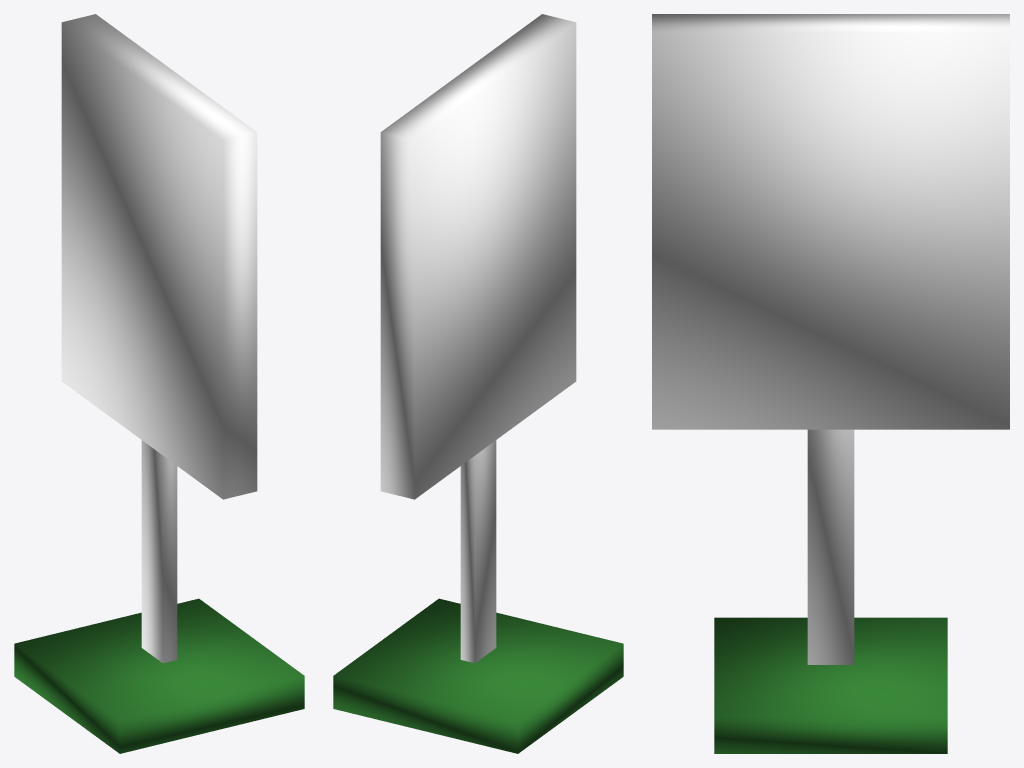
File: sign_blank.obj
3 renders of one model, left to right at view 1: azimuth 30°, elevation 25°; view 2: azimuth 150°, elevation 25°; view 3: azimuth 270°, elevation 25°, orthographic. The views are drawn at different scales.
Visible parts, largest first — view 1: Cube3, Cube4, Cube2; view 2: Cube3, Cube4, Cube2; view 3: Cube3, Cube4, Cube2.
Part boxes in pixels (box(x1,y1,x2,y2)): Cube3: box(61, 14, 257, 499); Cube4: box(14, 598, 304, 753); Cube2: box(141, 440, 177, 663); Cube3: box(380, 14, 576, 499); Cube4: box(333, 598, 623, 753); Cube2: box(460, 440, 496, 663); Cube3: box(652, 14, 1009, 429); Cube4: box(714, 617, 947, 753); Cube2: box(807, 429, 854, 664).
Bounding box in the file's own units: 1.62 × 5.15 × 2.45.
